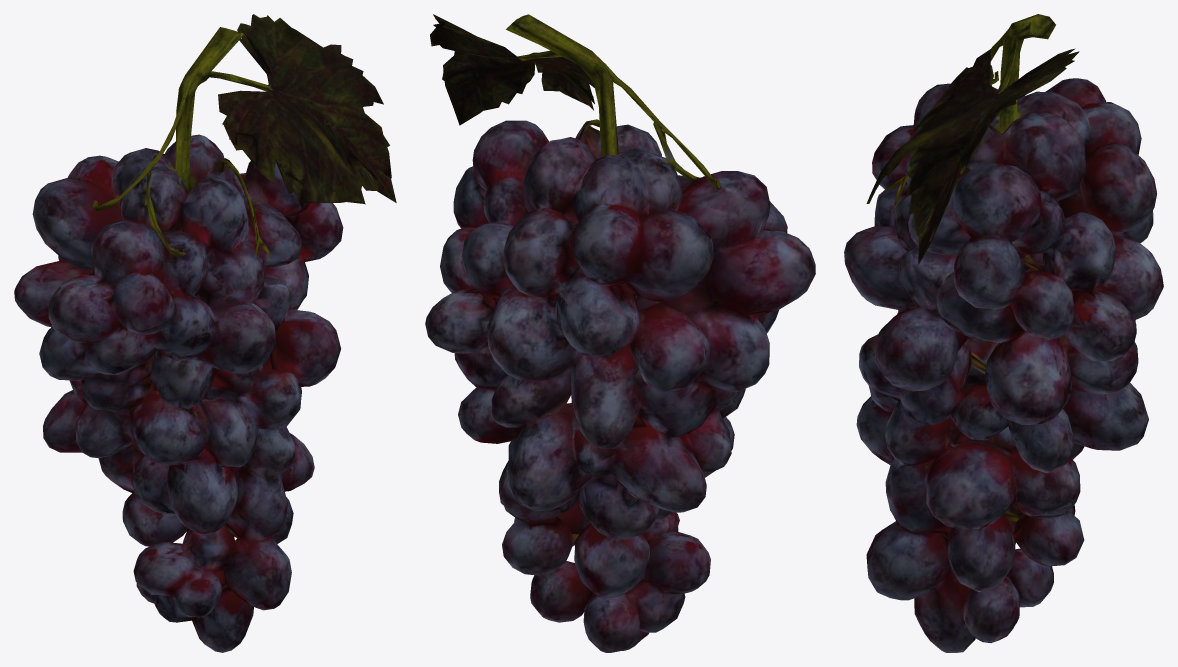
File: grapevyne-meshy-grapes.mobile.glb
3 views of the same model, side by side, from view 1: azimuth 30°, elevation 25°; view 2: azimuth 150°, elevation 25°; view 3: azimuth 270°, elevation 25° (orthographic). The views are drawn at different scales.
Parts seen in each view (by area): view 1: Mesh_0; view 2: Mesh_0; view 3: Mesh_0.
Boxes of the visible parts, x1=… form: Mesh_0: x1=14, y1=14, x2=396, y2=652; Mesh_0: x1=425, y1=14, x2=815, y2=652; Mesh_0: x1=844, y1=14, x2=1163, y2=652.
Size of the model in its own units: 1.14 by 1.9 by 0.8331.
Materials: 1 (1 with a texture image).
